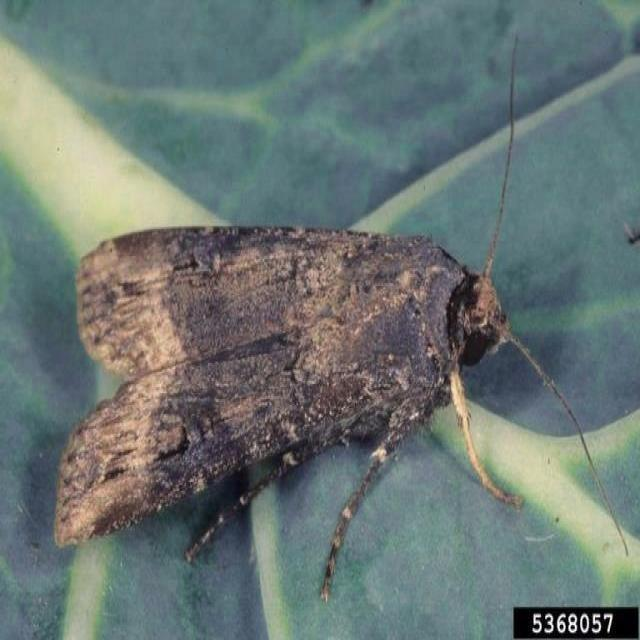black cutworm: (56, 216, 533, 549)
